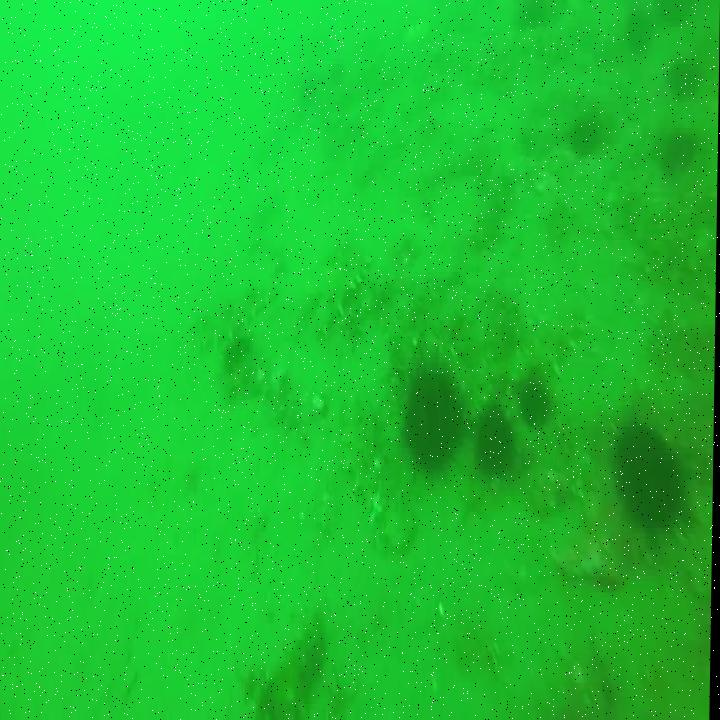echinus: (404, 358, 464, 479), (617, 430, 685, 534), (474, 400, 512, 476), (664, 124, 700, 176), (564, 115, 605, 154), (620, 9, 653, 55), (665, 50, 699, 92), (527, 375, 549, 430)
holothurian: (176, 272, 278, 356), (249, 615, 329, 720), (314, 220, 376, 348), (550, 278, 589, 372)
